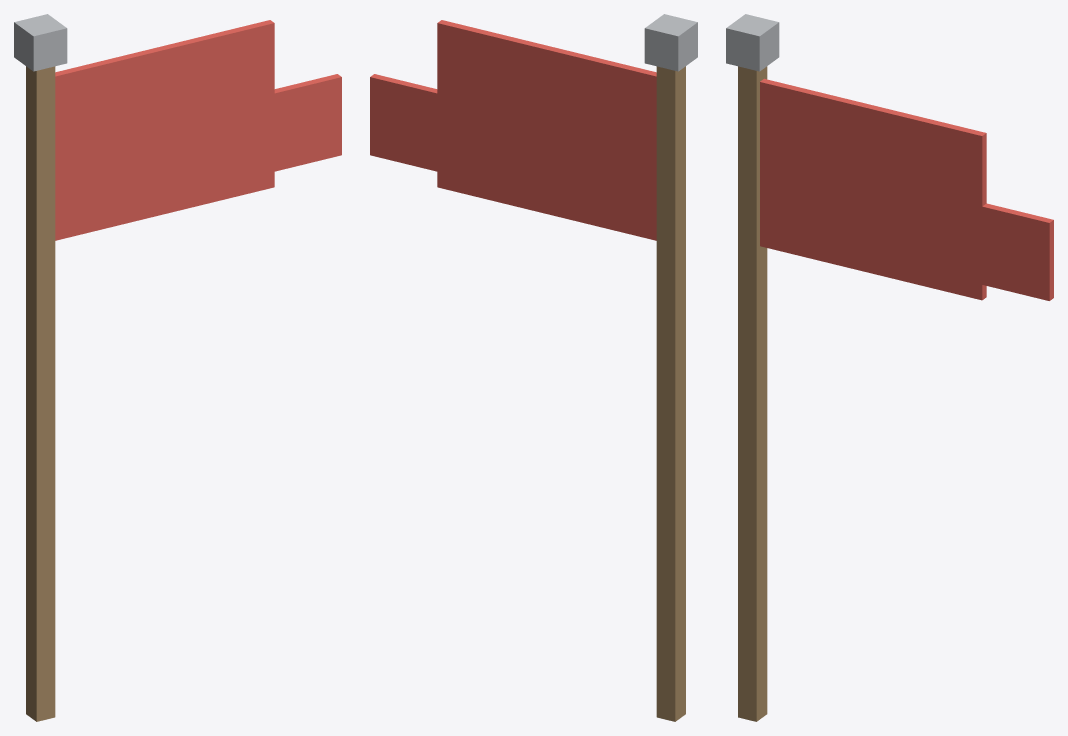
File: banner.glb
3 renders of one model, left to right at view 1: azimuth 30°, elevation 25°; view 2: azimuth 150°, elevation 25°; view 3: azimuth 330°, elevation 25°, orthographic.
Visible parts, largest first — view 1: Banner; view 2: Banner; view 3: Banner.
Boxes of the visible parts, x1,y1,x2,y2 form: Banner: (14, 14, 341, 721); Banner: (370, 14, 697, 721); Banner: (726, 14, 1053, 721).
Size of the model in its own units: 0.845 by 1.76 by 0.09.
